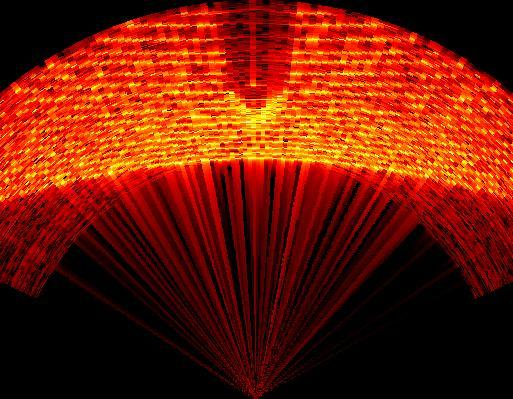box_crate: (216, 4, 296, 106)
